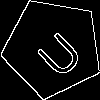U: (28, 22, 86, 81)
